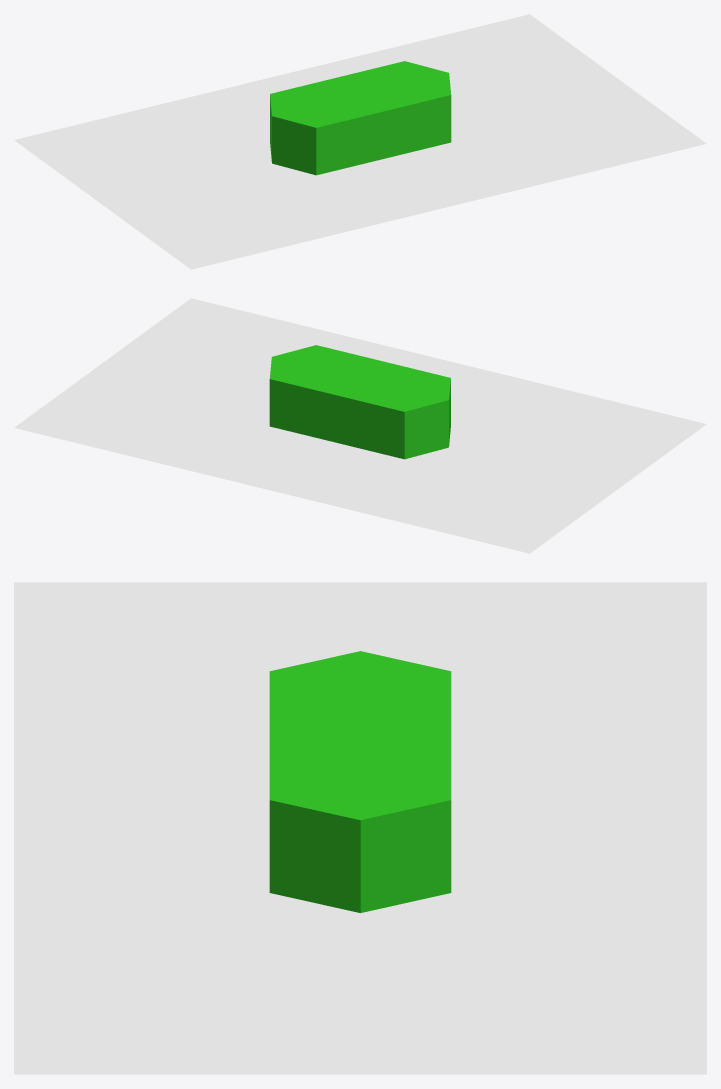
The model's file is NormalContent.fbx.
3 renders of one model, top to bottom at view 1: azimuth 30°, elevation 25°; view 2: azimuth 150°, elevation 25°; view 3: azimuth 270°, elevation 25°, orthographic. The views are drawn at different scales.
Parts seen in each view (by area): view 1: Shadow, Model; view 2: Shadow, Model; view 3: Shadow, Model.
Part boxes in pixels (x1=…): Shadow: x1=14, y1=14, x2=706, y2=269; Model: x1=270, y1=61, x2=451, y2=175; Shadow: x1=14, y1=298, x2=706, y2=553; Model: x1=269, y1=345, x2=450, y2=459; Shadow: x1=14, y1=582, x2=706, y2=1074; Model: x1=269, y1=651, x2=451, y2=912.
Bounding box in the file's own units: 3.42 × 0.308 × 2.03.
